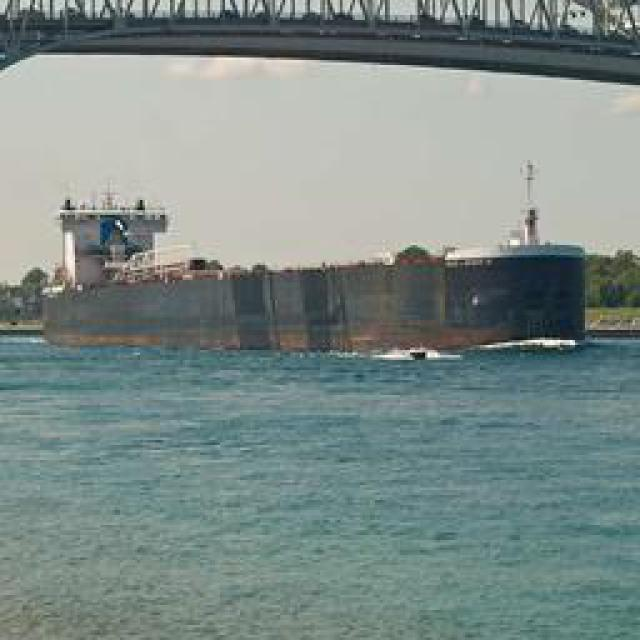Ship: (44, 221, 589, 354)
